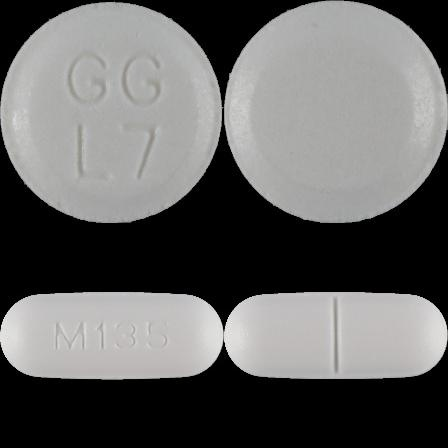0615-3544: (0, 0, 224, 224)
